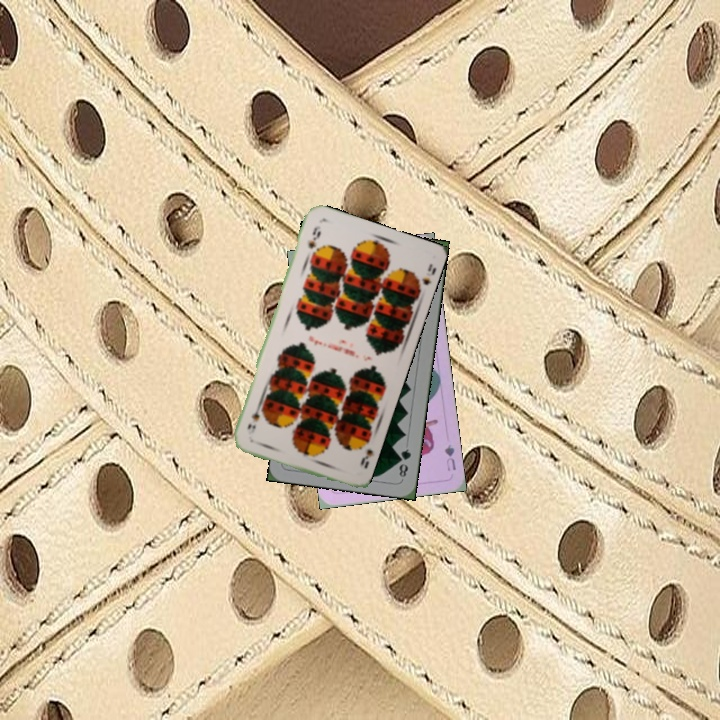G8: (395, 445, 414, 480)
GU: (440, 440, 459, 474)
S9: (356, 435, 376, 471), (304, 222, 324, 251)
